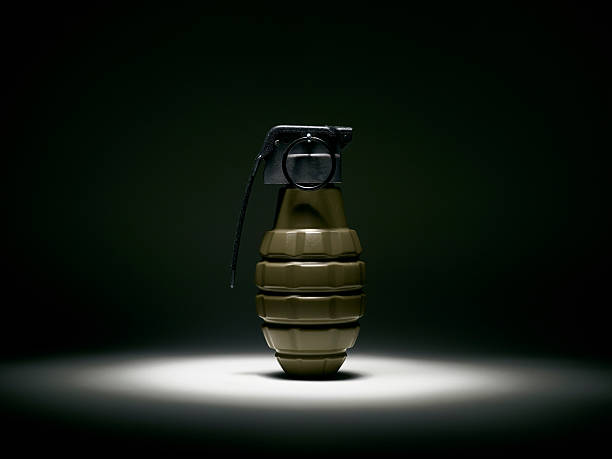e1: (229, 127, 367, 381)
